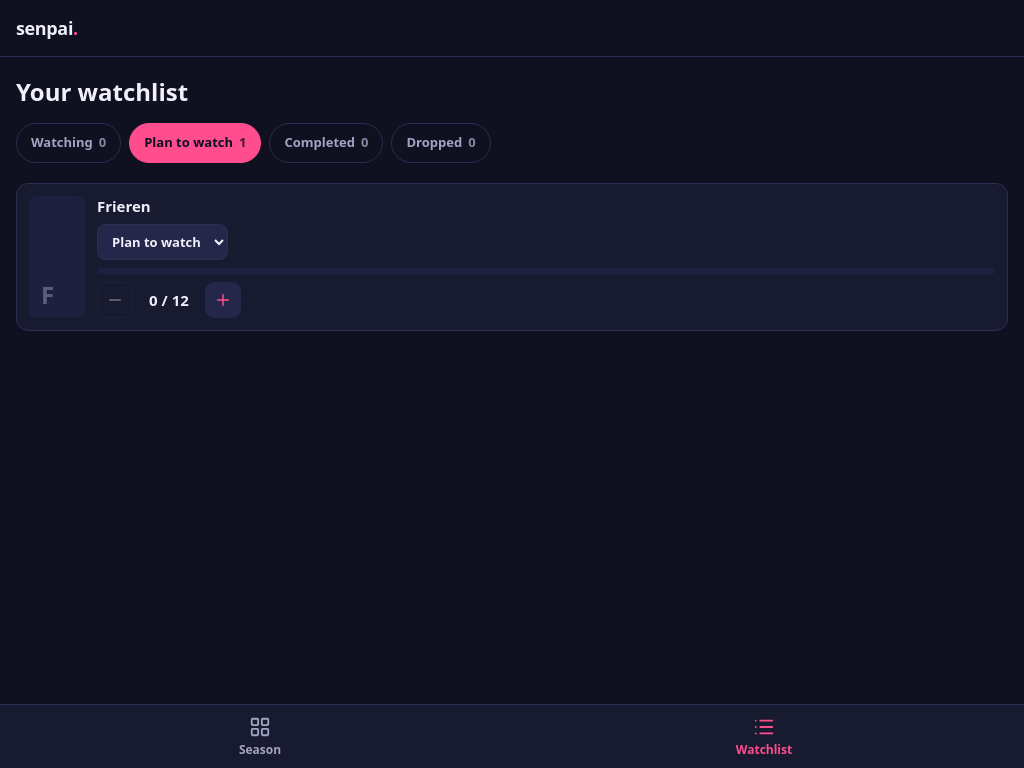
Scenario: WatchlistPage › moves a planned show to Watching on its first +1, without switching tabs
The image size is (1024, 768).
Click the button named "Watched episode 1: Frieren": (223, 300) [205,282,241,318]
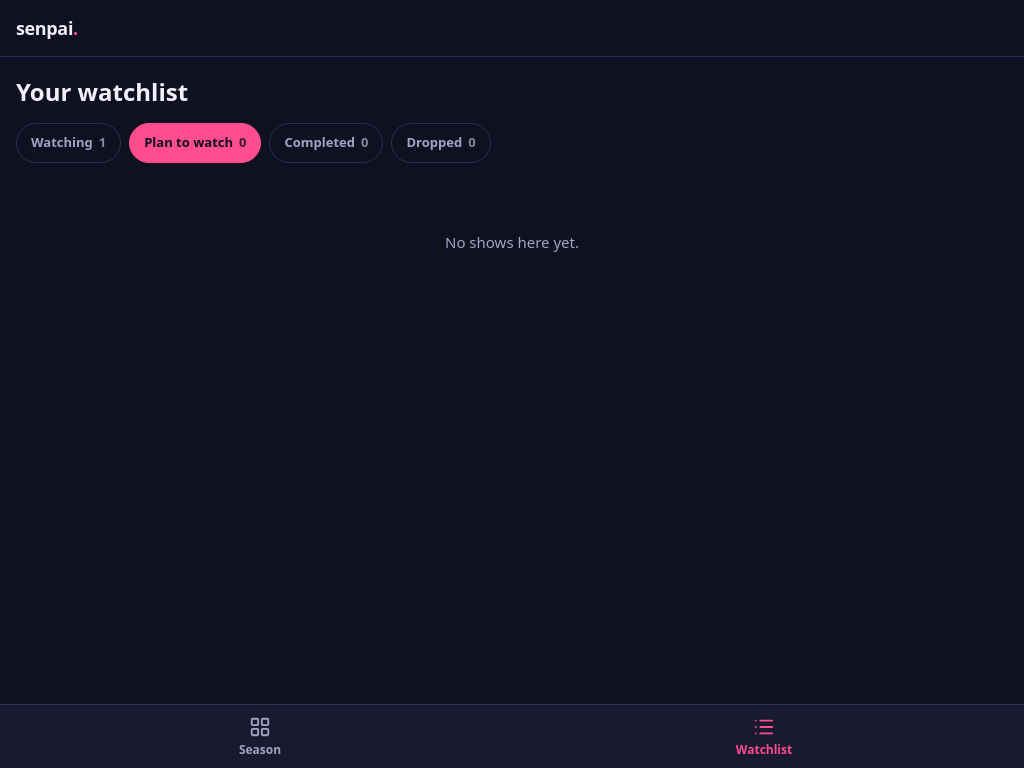
Check: the tab "Watching 1" is shown
Click the tab "Watching 1": (69, 143) [16,123,121,163]
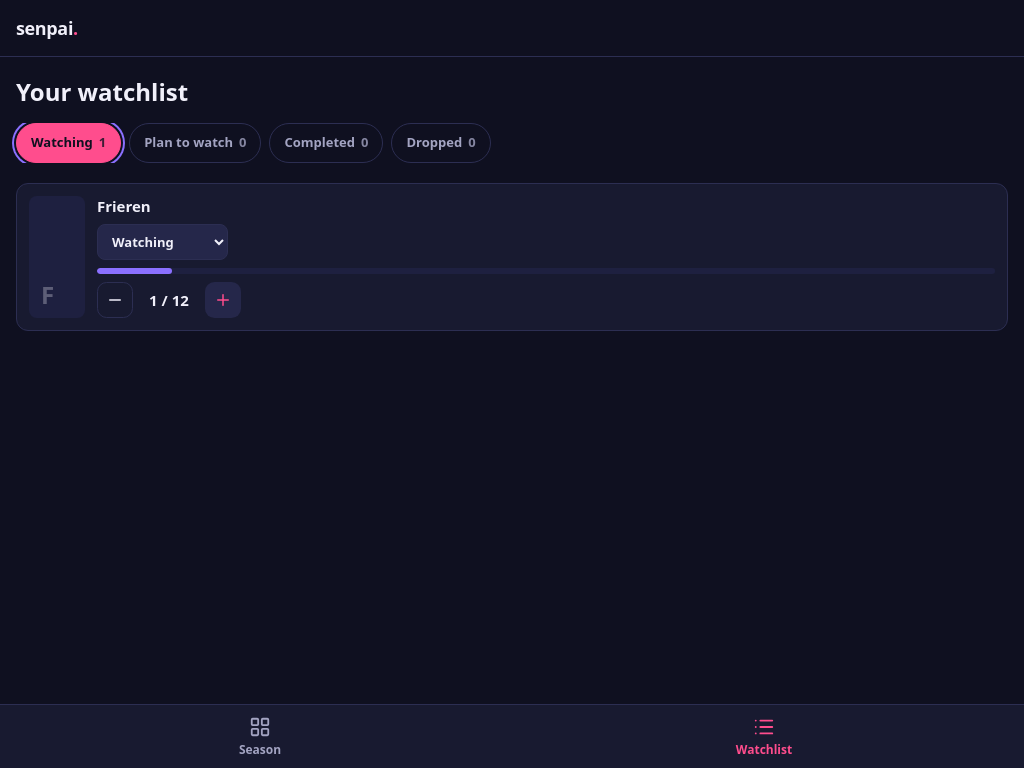
Check: the text "1 / 12" is shown, box [141,289,197,311]
